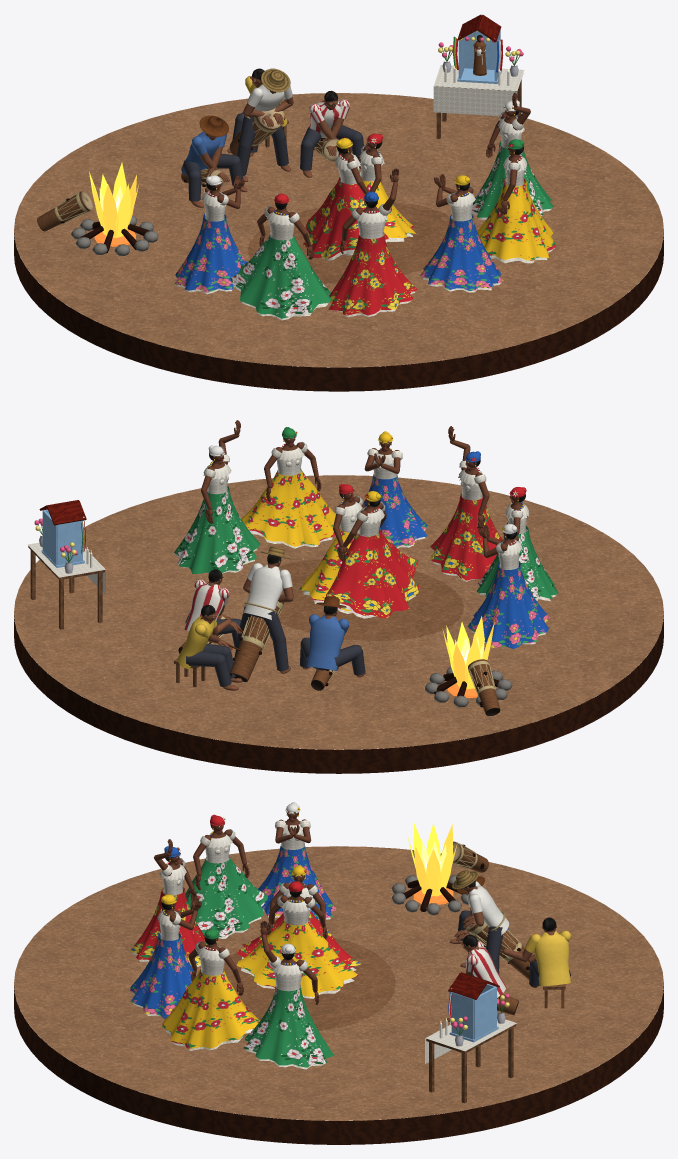
Rendered from tambor-crioula.glb.
3 renders of one model, top to bottom at view 1: azimuth 30°, elevation 25°; view 2: azimuth 150°, elevation 25°; view 3: azimuth 270°, elevation 25°, orthographic.
Visible parts, largest first — view 1: Terreiro, Coreira_roda_2, Altar_de_Sao_Benedito, Coreira_roda_3, Fogueira_de_afinar, Coreira_roda_4, Coreira_roda_5, Coreira_roda_1, Coreira_punga_1, Coreira_roda_6, Coreiro_tambor_grande, Coreiro_crivador (+4 smaller); view 2: Terreiro, Coreira_punga_1, Coreira_roda_5, Coreira_roda_6, Coreira_roda_1, Coreira_roda_3, Altar_de_Sao_Benedito, Fogueira_de_afinar, Coreira_roda_4, Coreiro_tambor_grande, Coreiro_crivador, Matraqueiro (+4 smaller); view 3: Terreiro, Coreira_roda_5, Coreira_roda_6, Coreira_punga_2, Coreira_roda_2, Altar_de_Sao_Benedito, Coreira_roda_4, Fogueira_de_afinar, Coreira_roda_1, Coreira_roda_3, Matraqueiro, Coreiro_tambor_grande (+3 smaller).
Boxes of the visible parts, x1,y1,x2,y2 form: Terreiro: (14, 93, 663, 391); Coreira_roda_2: (230, 193, 331, 320); Altar_de_Sao_Benedito: (433, 14, 524, 138); Coreira_roda_3: (328, 168, 417, 317); Fogueira_de_afinar: (37, 162, 158, 255); Coreira_roda_4: (420, 174, 503, 292); Coreira_roda_5: (477, 139, 556, 263); Coreira_roda_1: (174, 174, 246, 294); Coreira_punga_1: (302, 137, 388, 261); Coreira_roda_6: (471, 92, 553, 219); Coreiro_tambor_grande: (237, 68, 293, 181); Coreiro_crivador: (181, 115, 247, 207); Terreiro: (14, 475, 663, 773); Coreira_punga_1: (326, 491, 418, 618); Coreira_roda_5: (241, 427, 335, 548); Coreira_roda_6: (174, 420, 260, 573); Coreira_roda_1: (467, 524, 549, 648); Coreira_roda_3: (430, 426, 502, 581); Altar_de_Sao_Benedito: (27, 500, 105, 629); Fogueira_de_afinar: (425, 616, 512, 715); Coreira_roda_4: (363, 431, 427, 548); Coreiro_tambor_grande: (234, 546, 293, 673); Coreiro_crivador: (300, 596, 365, 677); Matraqueiro: (177, 605, 243, 690); Terreiro: (14, 846, 663, 1144); Coreira_roda_5: (162, 928, 260, 1050); Coreira_roda_6: (243, 920, 334, 1069); Coreira_punga_2: (236, 881, 358, 998); Coreira_roda_2: (185, 814, 267, 938); Altar_de_Sao_Benedito: (425, 972, 516, 1103); Coreira_roda_4: (130, 893, 201, 1019); Fogueira_de_afinar: (391, 823, 488, 915); Coreira_roda_1: (258, 802, 335, 919); Coreira_roda_3: (130, 839, 207, 966); Matraqueiro: (500, 917, 571, 987); Coreiro_tambor_grande: (452, 870, 509, 974).
Bounding box in the file's own units: 1 × 0.2631 × 1.
Materials: 72 (49 with a texture image).
